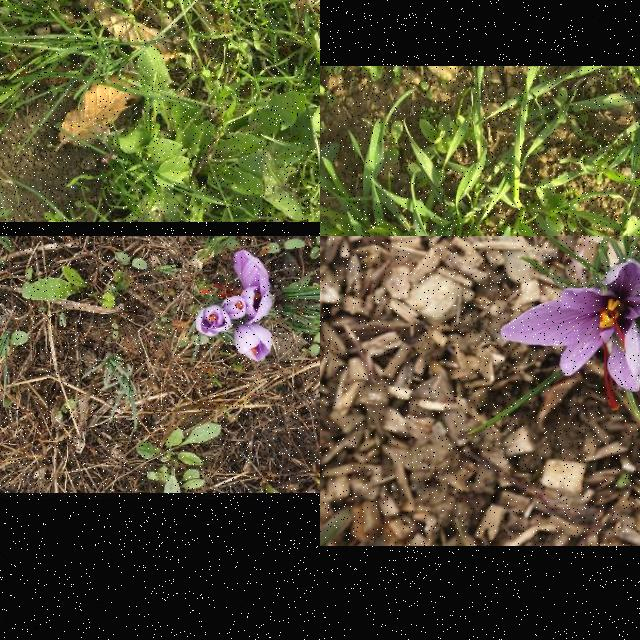flower: (500, 258, 640, 411), (200, 250, 274, 324), (234, 324, 272, 362), (194, 306, 233, 338), (222, 296, 248, 320)
